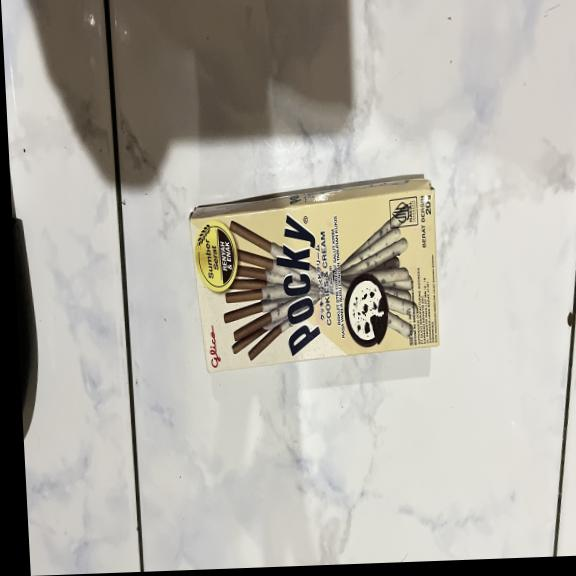Kertas: (181, 162, 440, 382)
